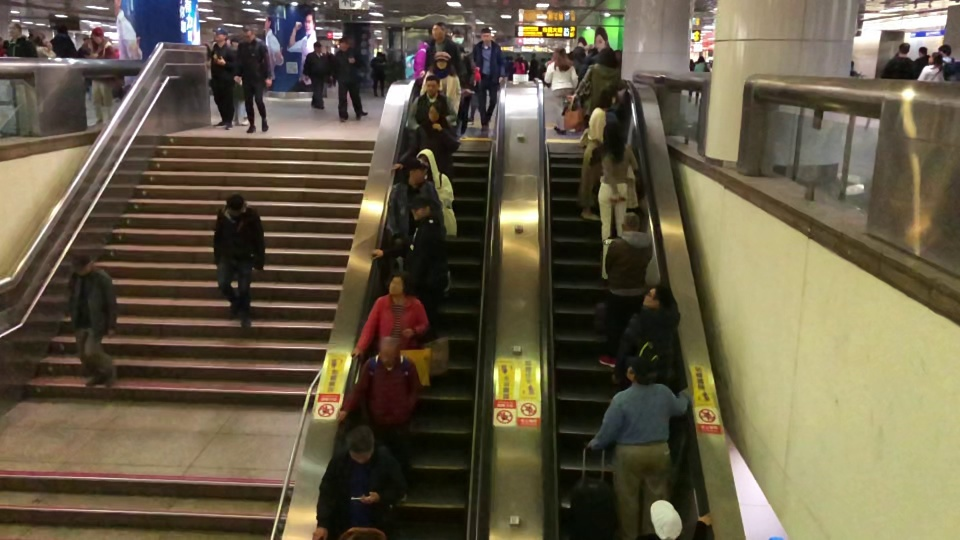person_head: (646, 495, 686, 540), (342, 423, 376, 467), (622, 354, 660, 386), (375, 336, 401, 371), (641, 283, 672, 312), (417, 147, 438, 183), (224, 189, 249, 219), (600, 120, 625, 150), (387, 269, 412, 298), (409, 192, 432, 222), (406, 157, 426, 187), (70, 251, 93, 276), (619, 210, 644, 233), (423, 72, 441, 97), (596, 45, 616, 67), (599, 86, 615, 110), (428, 101, 444, 123), (430, 21, 446, 41), (5, 21, 23, 38), (433, 51, 450, 69), (239, 23, 255, 42), (552, 43, 567, 63), (213, 25, 229, 43), (449, 27, 465, 44), (926, 50, 942, 67), (90, 26, 104, 43), (896, 41, 910, 57), (937, 43, 951, 58), (481, 26, 492, 43), (338, 36, 350, 51), (918, 44, 930, 57), (313, 40, 322, 53), (696, 54, 704, 64)
person_vbox: (586, 354, 693, 539), (336, 335, 420, 503), (310, 422, 406, 540), (367, 195, 446, 326), (597, 212, 653, 366), (611, 282, 680, 394), (66, 252, 119, 391), (213, 191, 267, 327), (350, 273, 429, 359), (416, 147, 458, 293), (596, 120, 639, 260), (386, 159, 447, 244), (577, 87, 616, 219), (394, 100, 459, 179), (236, 24, 274, 133), (472, 26, 505, 131), (574, 46, 620, 117), (86, 26, 119, 124), (404, 73, 457, 130), (417, 49, 462, 116), (332, 37, 367, 120), (546, 49, 576, 139), (210, 27, 236, 130), (423, 24, 467, 82), (302, 42, 329, 110), (4, 22, 39, 59), (882, 41, 914, 81), (686, 53, 709, 104), (916, 50, 946, 82), (938, 43, 960, 81), (913, 47, 931, 80)
